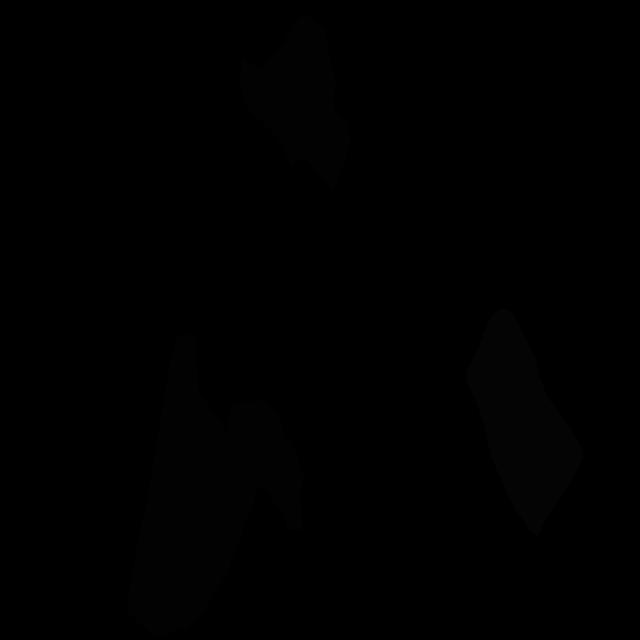cardboard: (126, 333, 261, 640), (240, 13, 351, 192), (226, 399, 304, 530)
soft_plastic: (466, 308, 583, 536)
